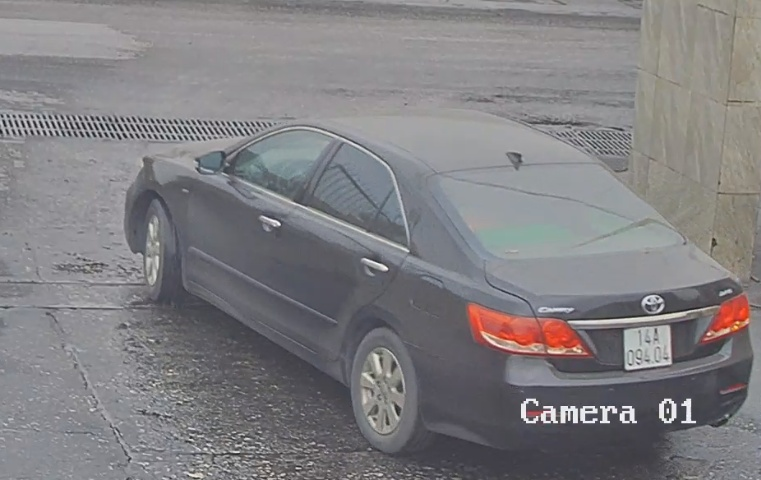vehicle plate: (616, 318, 679, 372)
